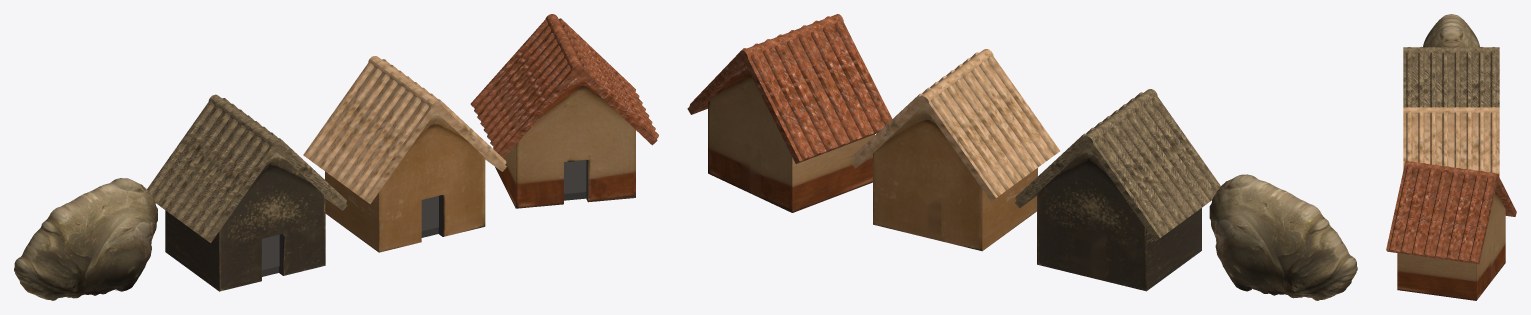
File: casas_23_14_web.glb
3 renders of one model, left to right at view 1: azimuth 30°, elevation 25°; view 2: azimuth 150°, elevation 25°; view 3: azimuth 270°, elevation 25°, orthographic. The views are drawn at different scales.
Parts seen in each view (by area): view 1: Casa_Crua, Casa_Queimada, Casa_Esmaltada, Massa_Ceramica; view 2: Casa_Esmaltada, Casa_Crua, Casa_Queimada, Massa_Ceramica; view 3: Casa_Esmaltada, Casa_Crua, Casa_Queimada, Massa_Ceramica.
Boxes of the visible parts, x1,y1,x2,y2 form: Casa_Crua: [147, 94, 347, 291]; Casa_Queimada: [303, 56, 506, 252]; Casa_Esmaltada: [470, 14, 658, 208]; Massa_Ceramica: [14, 178, 157, 300]; Casa_Esmaltada: [687, 14, 892, 212]; Casa_Crua: [1015, 89, 1220, 291]; Casa_Queimada: [851, 49, 1059, 251]; Massa_Ceramica: [1209, 174, 1357, 300]; Casa_Esmaltada: [1386, 161, 1516, 300]; Casa_Crua: [1403, 46, 1499, 107]; Casa_Queimada: [1403, 107, 1499, 177]; Massa_Ceramica: [1423, 14, 1479, 47].
Bounding box in the file's own units: 0.5943 × 0.1267 × 0.1381.
Materials: 11 (10 with a texture image).
